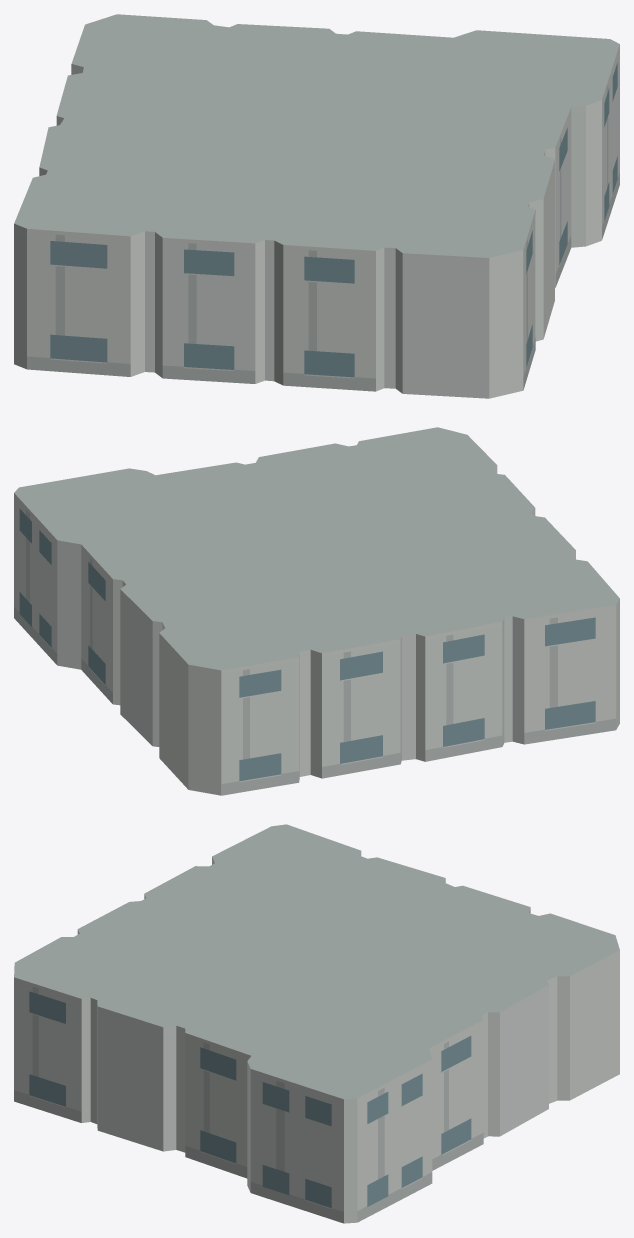
Rendered from survey-upis-32693417.glb.
3 renders of one model, top to bottom at view 1: azimuth 30°, elevation 25°; view 2: azimuth 150°, elevation 25°; view 3: azimuth 270°, elevation 25°, orthographic. The views are drawn at different scales.
Parts seen in each view (by area): view 1: survey-upis-32693417.tmp; view 2: survey-upis-32693417.tmp; view 3: survey-upis-32693417.tmp.
Boxes of the visible parts, <box> form: survey-upis-32693417.tmp: <box>14,14,619,398</box>; survey-upis-32693417.tmp: <box>14,427,619,795</box>; survey-upis-32693417.tmp: <box>14,824,619,1223</box>.
Bounding box in the file's own units: 43.44 × 9.15 × 40.45.
